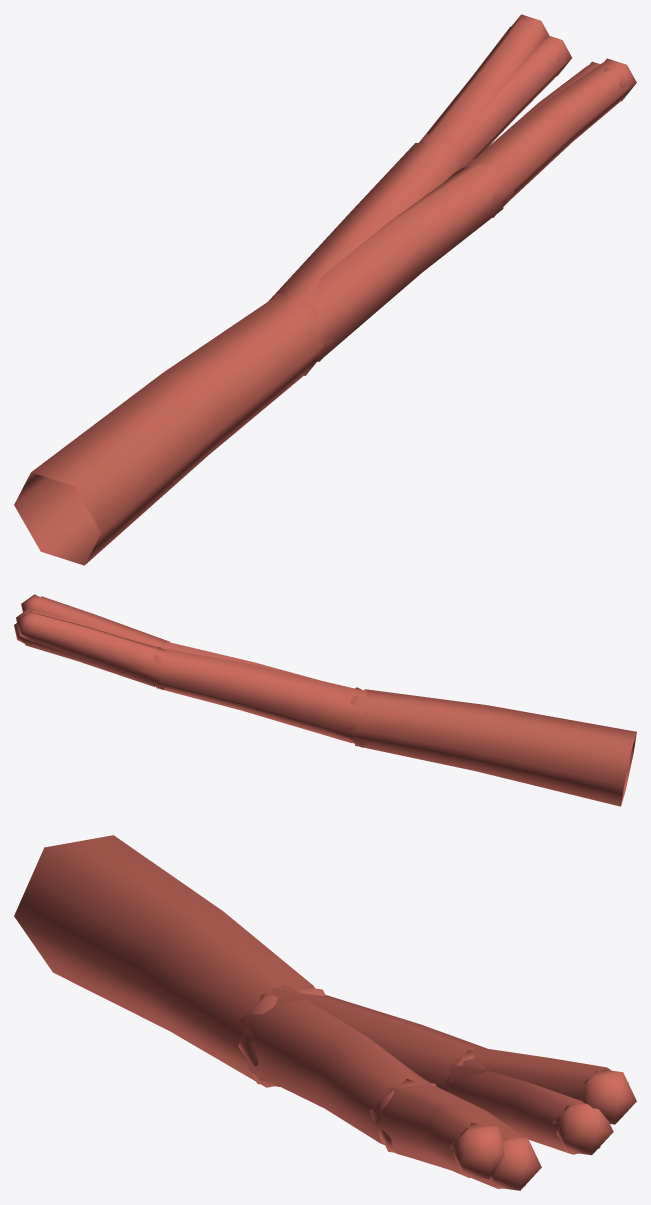
Rendered from item_shell_coral.glb.
3 renders of one model, top to bottom at view 1: azimuth 30°, elevation 25°; view 2: azimuth 150°, elevation 25°; view 3: azimuth 270°, elevation 25°, orthographic. The views are drawn at different scales.
Parts seen in each view (by area): view 1: item_shell_coral_main; view 2: item_shell_coral_main; view 3: item_shell_coral_main.
Part boxes in pixels (x1=…): item_shell_coral_main: x1=14, y1=14, x2=636, y2=565; item_shell_coral_main: x1=14, y1=594, x2=636, y2=806; item_shell_coral_main: x1=14, y1=835, x2=636, y2=1190.
Bounding box in the file's own units: 0.4345 × 0.1366 × 0.2319.
